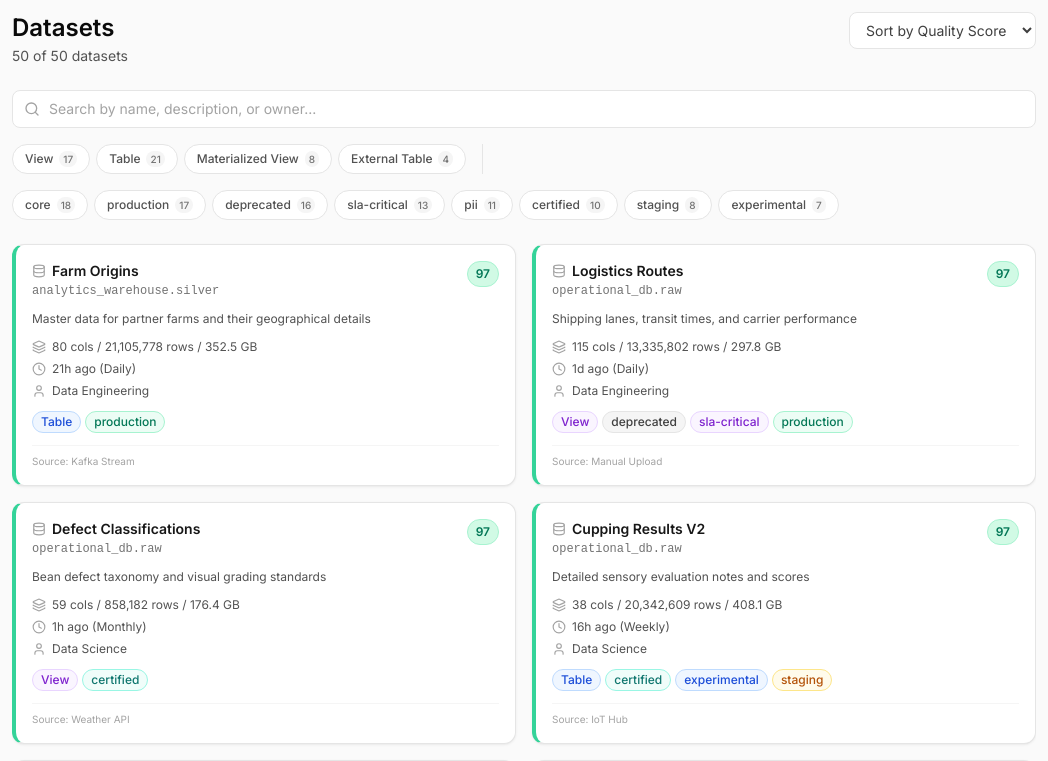
Test: Datasets › search filters datasets by name
Type "Coffee Inventory" into the field with placeholder "Search by name, description, or owner..." at [524, 109], box [12, 90, 1036, 128]
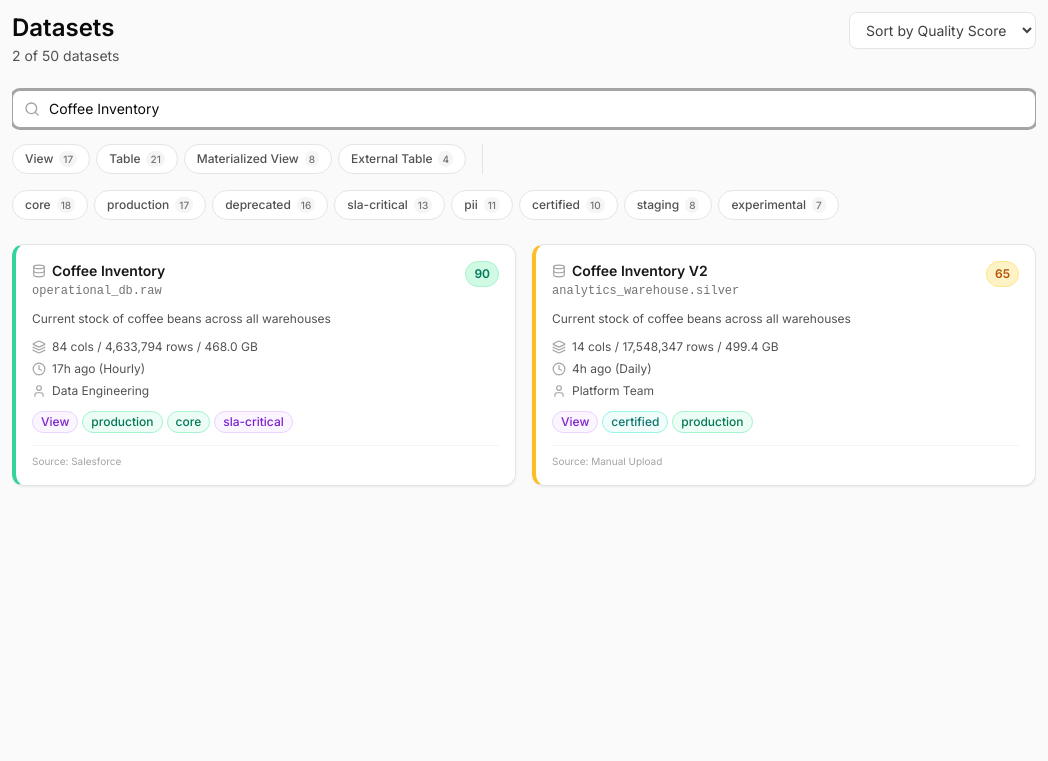
Now the heading "Coffee Inventory" is shown, box [52, 261, 165, 281]
